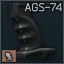AK Custom Arms AGS-74 PRO + Sniper Kit pistol grip: (0, 0, 64, 64)
